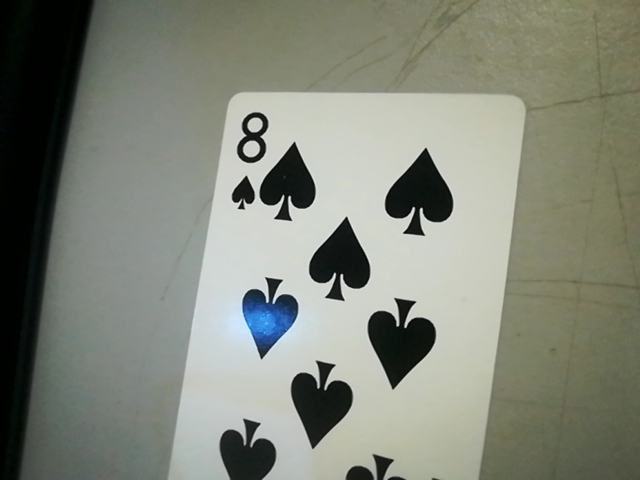ht 8: (219, 101, 276, 217)
